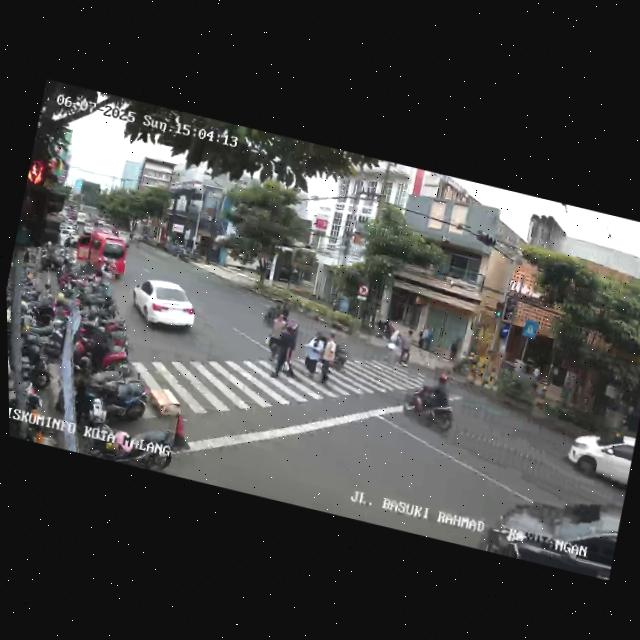car: (483, 486, 622, 581), (559, 422, 636, 498), (125, 273, 202, 341), (68, 226, 130, 282)
motorcycle: (399, 370, 461, 436)
person: (267, 321, 302, 382), (299, 327, 330, 382), (315, 332, 340, 386), (263, 312, 287, 363), (382, 325, 404, 368), (397, 328, 415, 369)
